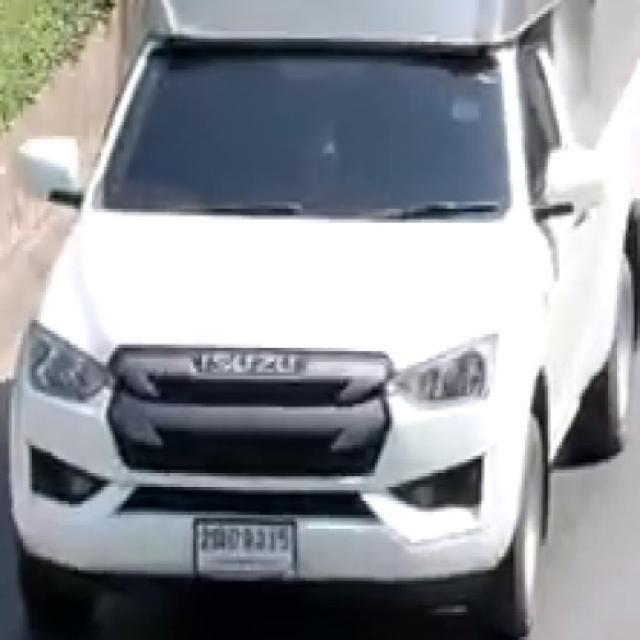plate: (193, 517, 300, 583)
